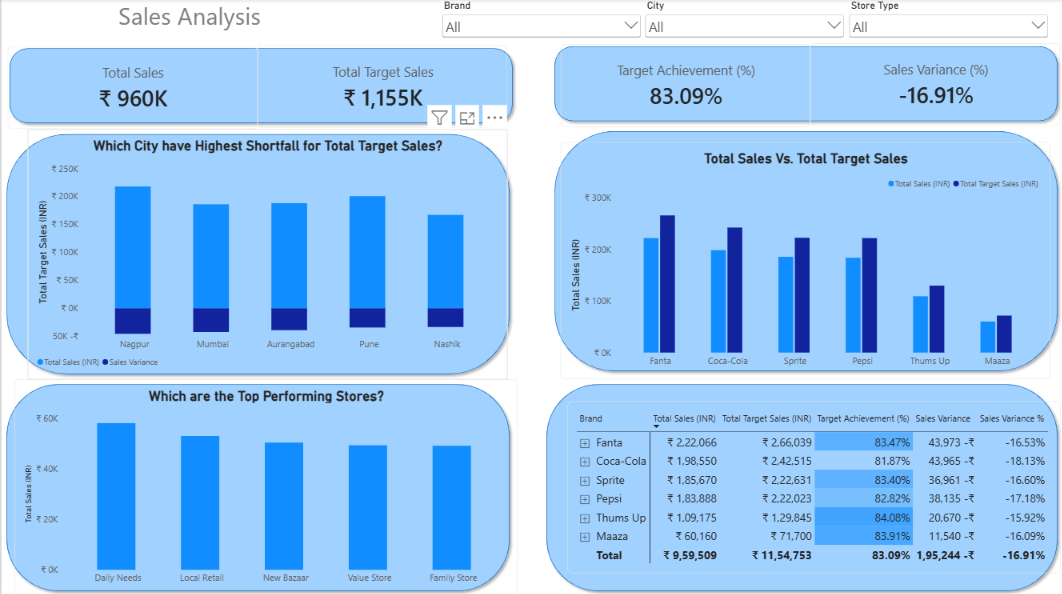

This screenshot's page, from the dashboard's own definition file:
{"tool":"powerbi","page":{"name":"Sales","canvas":[1920,1080],"ordinal":3},"visuals":[{"type":"group","id":"g1","title":"Background","box":[0,76,1920.1,1004.4],"z":0},{"type":"shape","box":[5.4,79.6,928.4,153.8],"z":0,"group":"g1"},{"type":"shape","box":[977.2,687.7,942.8,392.7],"z":500,"group":"g1"},{"type":"textbox","box":[10.9,0,658.7,85.1],"z":1000},{"type":"shape","box":[991.7,76,928.4,153.8],"z":1000,"group":"g1"},{"type":"cardVisual","fields":{"Data":["_Measures.Total_Sales"]},"box":[10.9,85.1,452,150],"z":2000},{"type":"shape","box":[0,235.3,928.4,452.4],"z":2000,"group":"g1"},{"type":"cardVisual","fields":{"Data":["_Measures.Target_Achievement %"]},"box":[1011.6,81.4,452,150],"z":3000},{"type":"shape","box":[991.7,229.8,928.4,452.4],"z":3000,"group":"g1"},{"type":"cardVisual","fields":{"Data":["_Measures.Sales_Variance %"]},"box":[1464,79.6,452,150],"z":4000},{"type":"shape","box":[0,687.7,928.4,392.7],"z":4000,"group":"g1"},{"type":"cardVisual","fields":{"Data":["_Measures.Total_Target_Sales"]},"box":[463.3,83.2,452,150],"z":5000},{"type":"slicer","fields":{"Values":["Product_Dim.Brand"]},"box":[792.6,0,369.2,99.5],"z":6000},{"type":"columnChart","title":"Which City have Highest Shortfall for Total Target Sales?","fields":{"Category":["City_Dim.City"],"Y":["_Measures.Total_Sales","_Measures.Sales_Variance"]},"box":[47.1,235.3,868.6,452.4],"z":7000},{"type":"slicer","fields":{"Values":["City_Dim.City"]},"box":[1160,0,369.2,99.5],"z":8000},{"type":"slicer","fields":{"Values":["Store_Type_Dim.Store Type"]},"box":[1529.2,0,369.2,99.5],"z":9000},{"type":"pivotTable","title":"What are the Top Selling Brands?","fields":{"Rows":["Product_Dim.Brand","Product_Dim.SKU","Store_Dim.Store Name"],"Values":["_Measures.Total_Sales","_Measures.Total_Target_Sales","_Measures.Target_Achievement %","_Measures.Sales_Variance","_Measures.Sales_Variance %"]},"box":[1024.3,727.5,892.2,311.3],"z":10000},{"type":"clusteredColumnChart","title":"Which are the Top Performing Stores?","fields":{"Category":["Store_Dim.Store Name"],"Y":["_Measures.Total_Sales"]},"box":[23.5,687.7,910.3,392.7],"z":11000},{"type":"clusteredColumnChart","title":"Total Sales Vs. Total Target Sales","fields":{"Category":["Product_Dim.Brand"],"Y":["_Measures.Total_Sales","_Measures.Total_Target_Sales"]},"box":[1011.6,258.8,886.7,428.9],"z":12000}]}

Visuals, with their boxes in screenshot pixels (x1, y1, x2, y2), scaled from the page's 1920x1080 canvas onto the 1062x594 screenshot:
"Background" group: {"left": 0, "top": 42, "right": 1061, "bottom": 593}
shape: {"left": 3, "top": 44, "right": 517, "bottom": 128}
shape: {"left": 541, "top": 378, "right": 1061, "bottom": 593}
textbox: {"left": 6, "top": 0, "right": 370, "bottom": 47}
shape: {"left": 549, "top": 42, "right": 1061, "bottom": 126}
cardVisual - _Measures.Total_Sales: {"left": 6, "top": 47, "right": 256, "bottom": 129}
shape: {"left": 0, "top": 129, "right": 514, "bottom": 378}
cardVisual - _Measures.Target_Achievement %: {"left": 560, "top": 45, "right": 810, "bottom": 127}
shape: {"left": 549, "top": 126, "right": 1061, "bottom": 375}
cardVisual - _Measures.Sales_Variance %: {"left": 810, "top": 44, "right": 1060, "bottom": 126}
shape: {"left": 0, "top": 378, "right": 514, "bottom": 593}
cardVisual - _Measures.Total_Target_Sales: {"left": 256, "top": 46, "right": 506, "bottom": 128}
slicer - Product_Dim.Brand: {"left": 438, "top": 0, "right": 643, "bottom": 55}
"Which City have Highest Shortfall for Total Target Sales?" columnChart: {"left": 26, "top": 129, "right": 506, "bottom": 378}
slicer - City_Dim.City: {"left": 642, "top": 0, "right": 846, "bottom": 55}
slicer - Store_Type_Dim.Store Type: {"left": 846, "top": 0, "right": 1050, "bottom": 55}
"What are the Top Selling Brands?" pivotTable: {"left": 567, "top": 400, "right": 1060, "bottom": 571}
"Which are the Top Performing Stores?" clusteredColumnChart: {"left": 13, "top": 378, "right": 517, "bottom": 593}
"Total Sales Vs. Total Target Sales" clusteredColumnChart: {"left": 560, "top": 142, "right": 1050, "bottom": 378}
